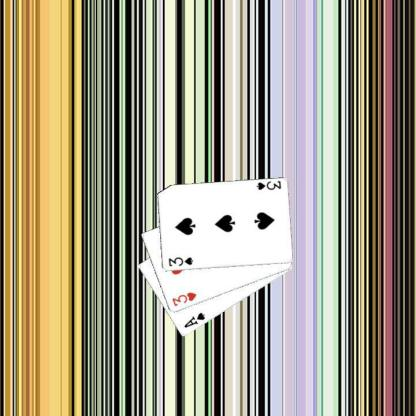3H: (169, 290, 198, 307)
3S: (166, 255, 194, 267), (254, 179, 282, 191)
AS: (182, 310, 206, 330)
